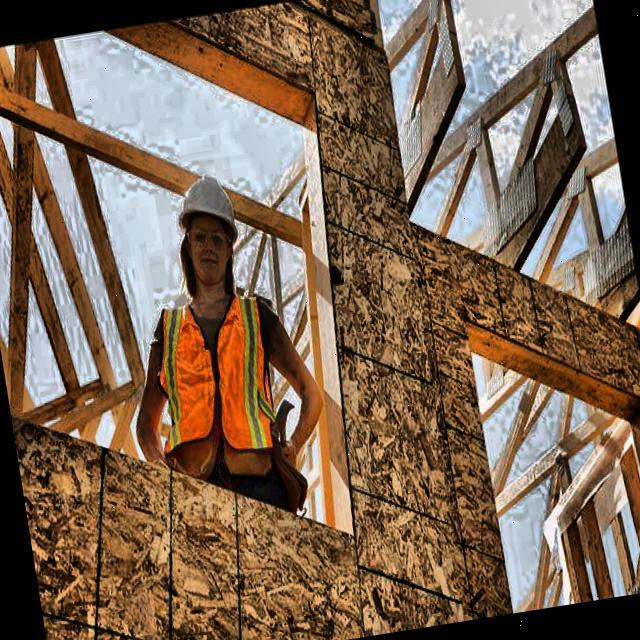helmet: (168, 157, 256, 300)
